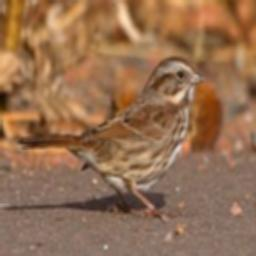Sparrow: (14, 49, 205, 222)
